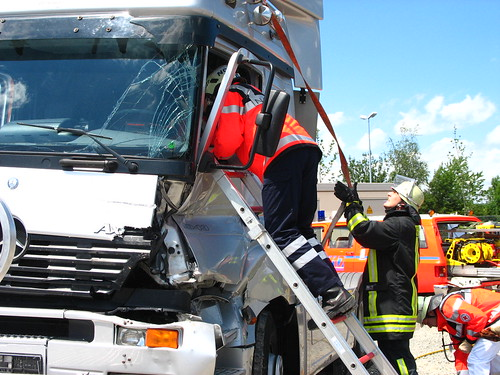firefighter: (202, 78, 351, 318), (354, 172, 427, 371), (416, 290, 500, 375)
sky: (337, 1, 500, 157)
truck: (1, 1, 352, 364)
